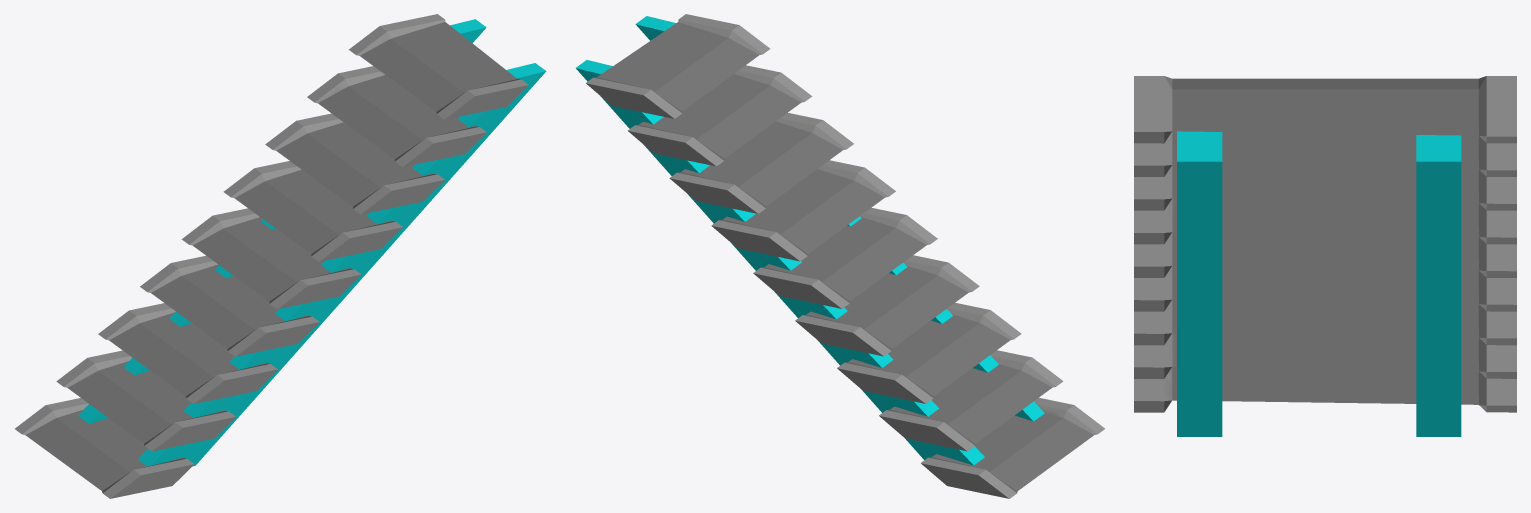
Rendered from SM_B_Stairs2.fbx.
3 views of the same model, side by side, from view 1: azimuth 30°, elevation 25°; view 2: azimuth 150°, elevation 25°; view 3: azimuth 270°, elevation 25° (orthographic). The views are drawn at different scales.
Parts seen in each view (by area): view 1: SM_B_Stairs2; view 2: SM_B_Stairs2; view 3: SM_B_Stairs2.
Part boxes in pixels (box(x1,y1,x2,y2)): SM_B_Stairs2: box(15, 14, 546, 498); SM_B_Stairs2: box(576, 14, 1104, 498); SM_B_Stairs2: box(1134, 76, 1516, 436).
Size of the model in its own units: 511 by 189 by 345.
Materials: 1 (1 with a texture image).
